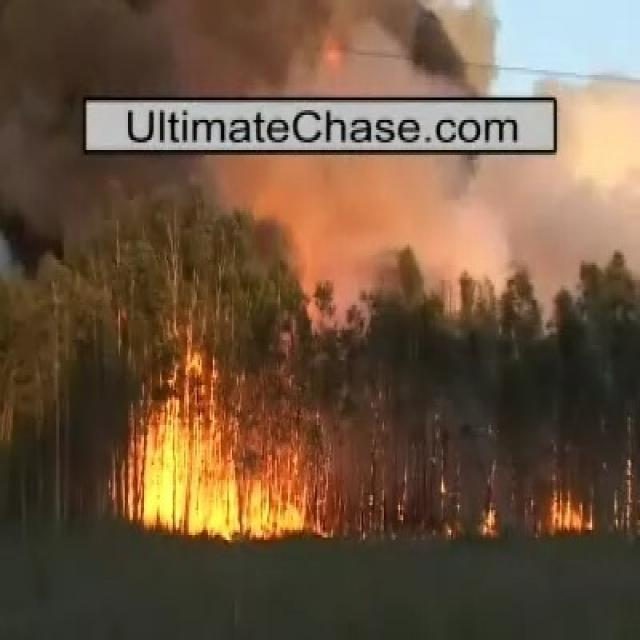fire: (126, 422, 244, 523)
smoke: (42, 3, 503, 92)
